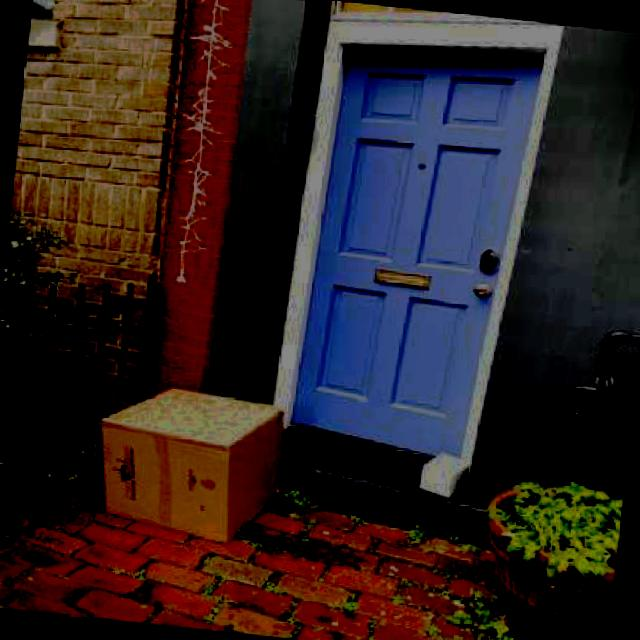Box: (81, 374, 303, 556), (414, 445, 476, 502)
